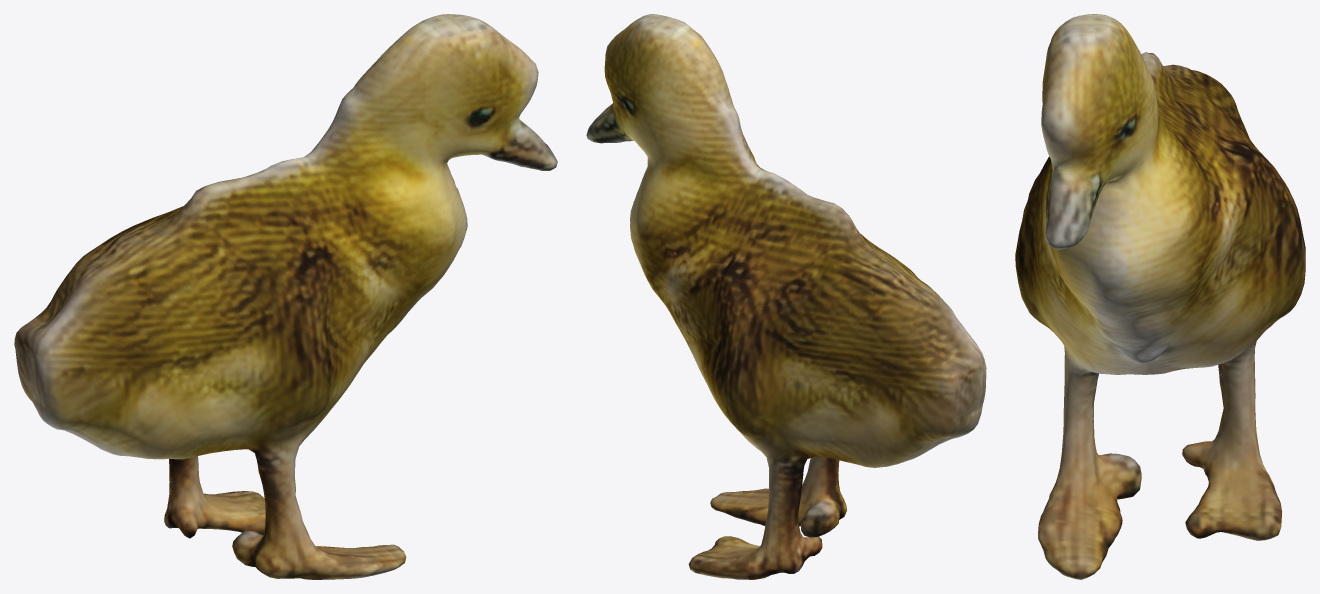
The model's file is bebe.glb.
The picture shows the model from 3 angles, left to right: view 1: azimuth 30°, elevation 25°; view 2: azimuth 150°, elevation 25°; view 3: azimuth 270°, elevation 25°; orthographic projection. The views are drawn at different scales.
Visible parts, largest first — view 1: mesh; view 2: mesh; view 3: mesh.
Part boxes in pixels (box(x1,y1,x2,y2)): mesh: box(14, 14, 557, 579); mesh: box(586, 14, 986, 579); mesh: box(1015, 14, 1305, 579).
Size of the model in its own units: 1.54 by 1.62 by 0.7279.
1 material, 1 textured.
